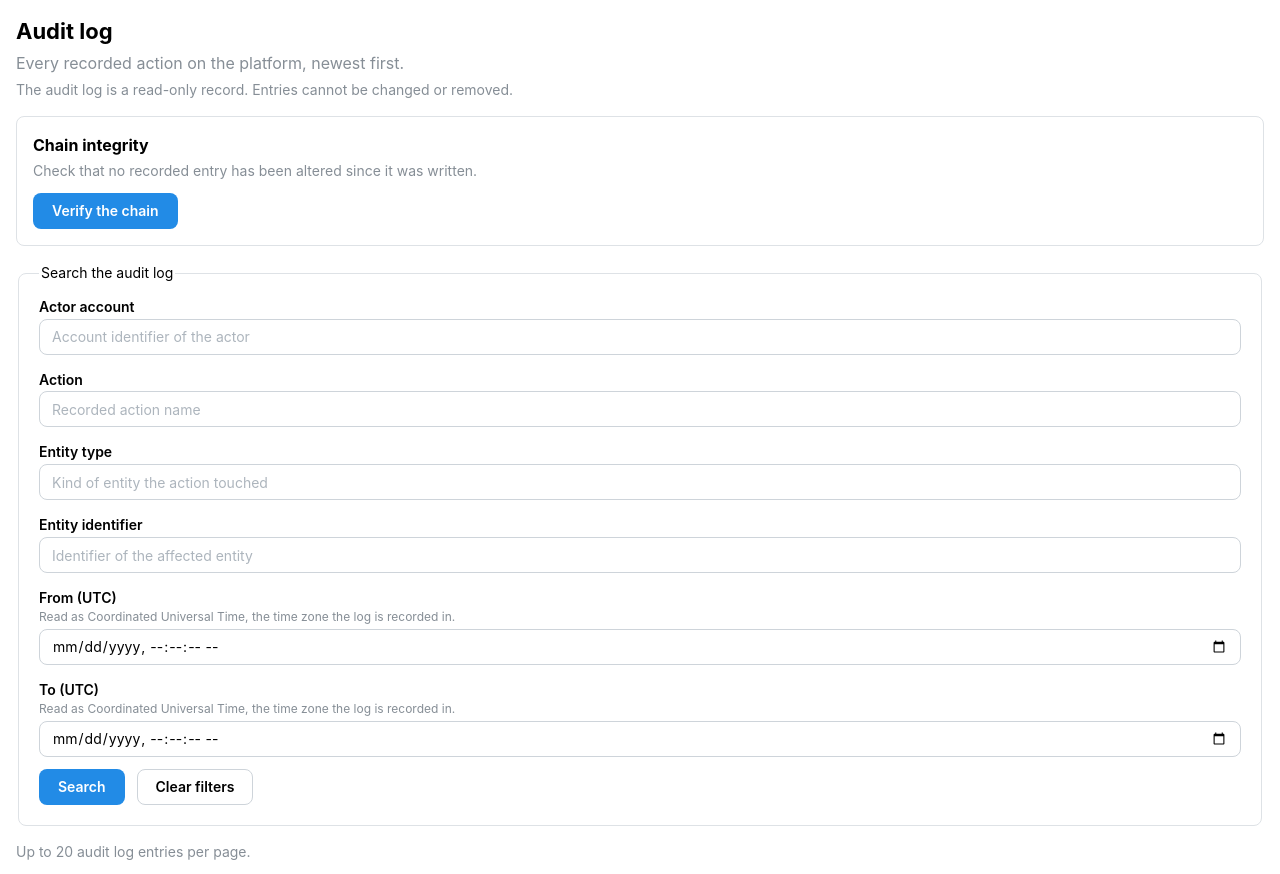
it: chain verification (Req 17 AC6, AC7) › verifies nothing until the control is pressed, then renders all four members
Click the button with test id "audit-chain-verify-run" at (105, 211), box [33, 193, 178, 229]
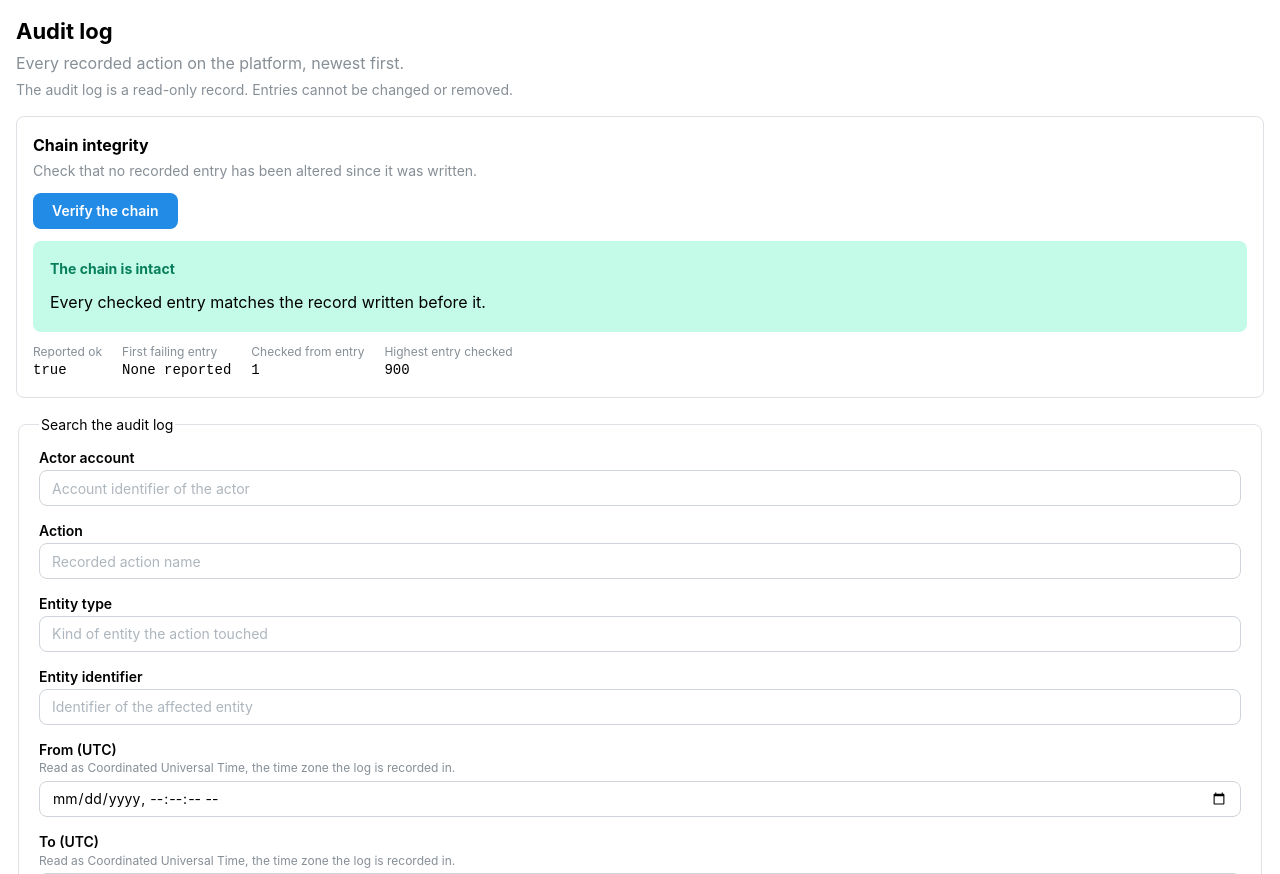
Expected: the element with test id "audit-chain-facts" is shown, [33, 344, 513, 378]
Expected: the element with test id "audit-chain-ok" reads "true", [33, 362, 67, 378]
Expected: the text with test id "audit-chain-first-bad-id" reads "None reported", [122, 362, 231, 378]
